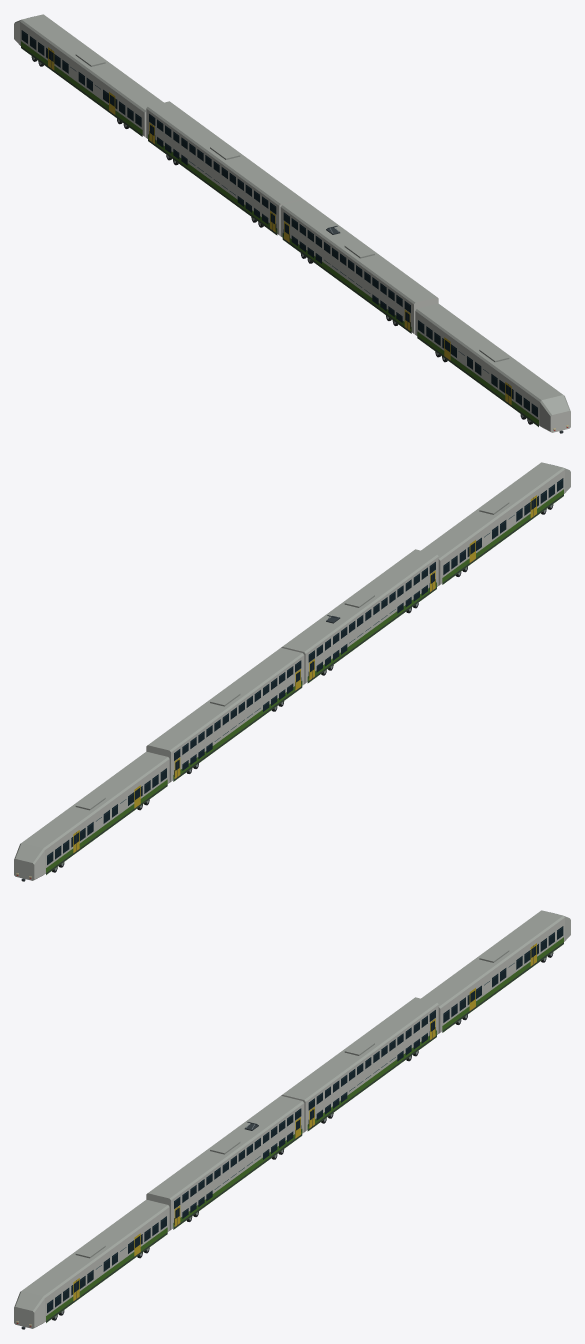
Rendered from odeg-desiro-hc.glb.
The picture shows the model from 3 angles, top to bottom: view 1: azimuth 30°, elevation 25°; view 2: azimuth 150°, elevation 25°; view 3: azimuth 330°, elevation 25°; orthographic projection.
Parts seen in each view (by area): view 1: odeg-desiro-hc.segment-02.005, odeg-desiro-hc.segment-03.005, odeg-desiro-hc.segment-01.005, odeg-desiro-hc.segment-04.005; view 2: odeg-desiro-hc.segment-03.005, odeg-desiro-hc.segment-02.005, odeg-desiro-hc.segment-04.005, odeg-desiro-hc.segment-01.005; view 3: odeg-desiro-hc.segment-02.005, odeg-desiro-hc.segment-03.005, odeg-desiro-hc.segment-01.005, odeg-desiro-hc.segment-04.005.
Boxes of the visible parts, x1=… form: odeg-desiro-hc.segment-02.005: x1=280, y1=200, x2=438, y2=334; odeg-desiro-hc.segment-03.005: x1=146, y1=101, x2=303, y2=236; odeg-desiro-hc.segment-01.005: x1=415, y1=303, x2=570, y2=433; odeg-desiro-hc.segment-04.005: x1=14, y1=14, x2=163, y2=137; odeg-desiro-hc.segment-03.005: x1=146, y1=648, x2=304, y2=782; odeg-desiro-hc.segment-02.005: x1=281, y1=549, x2=438, y2=684; odeg-desiro-hc.segment-04.005: x1=14, y1=751, x2=169, y2=881; odeg-desiro-hc.segment-01.005: x1=421, y1=462, x2=570, y2=585; odeg-desiro-hc.segment-02.005: x1=146, y1=1096, x2=304, y2=1230; odeg-desiro-hc.segment-03.005: x1=281, y1=997, x2=438, y2=1132; odeg-desiro-hc.segment-01.005: x1=14, y1=1199, x2=169, y2=1329; odeg-desiro-hc.segment-04.005: x1=421, y1=910, x2=570, y2=1033.
Size of the model in its own units: 2.87 by 4.61 by 106.
